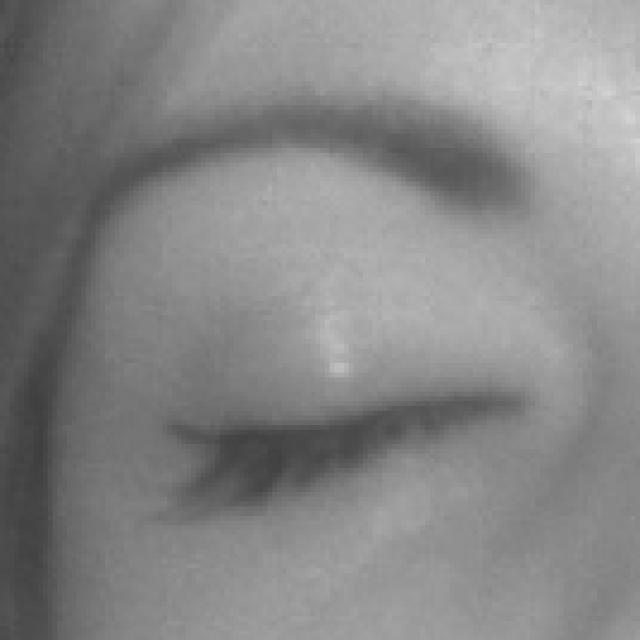Eyeclosed: (152, 237, 536, 619)
